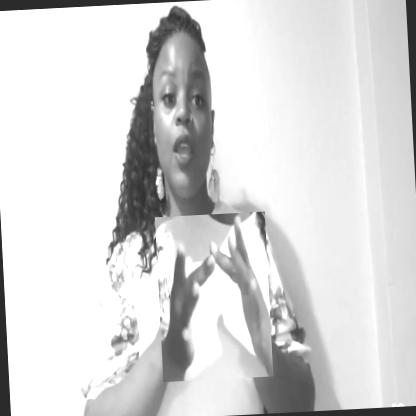Internet: (154, 211, 272, 382)
